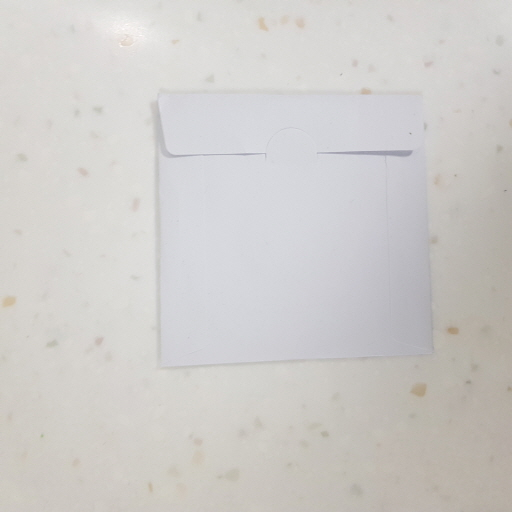Paper_2: (142, 79, 449, 390)
